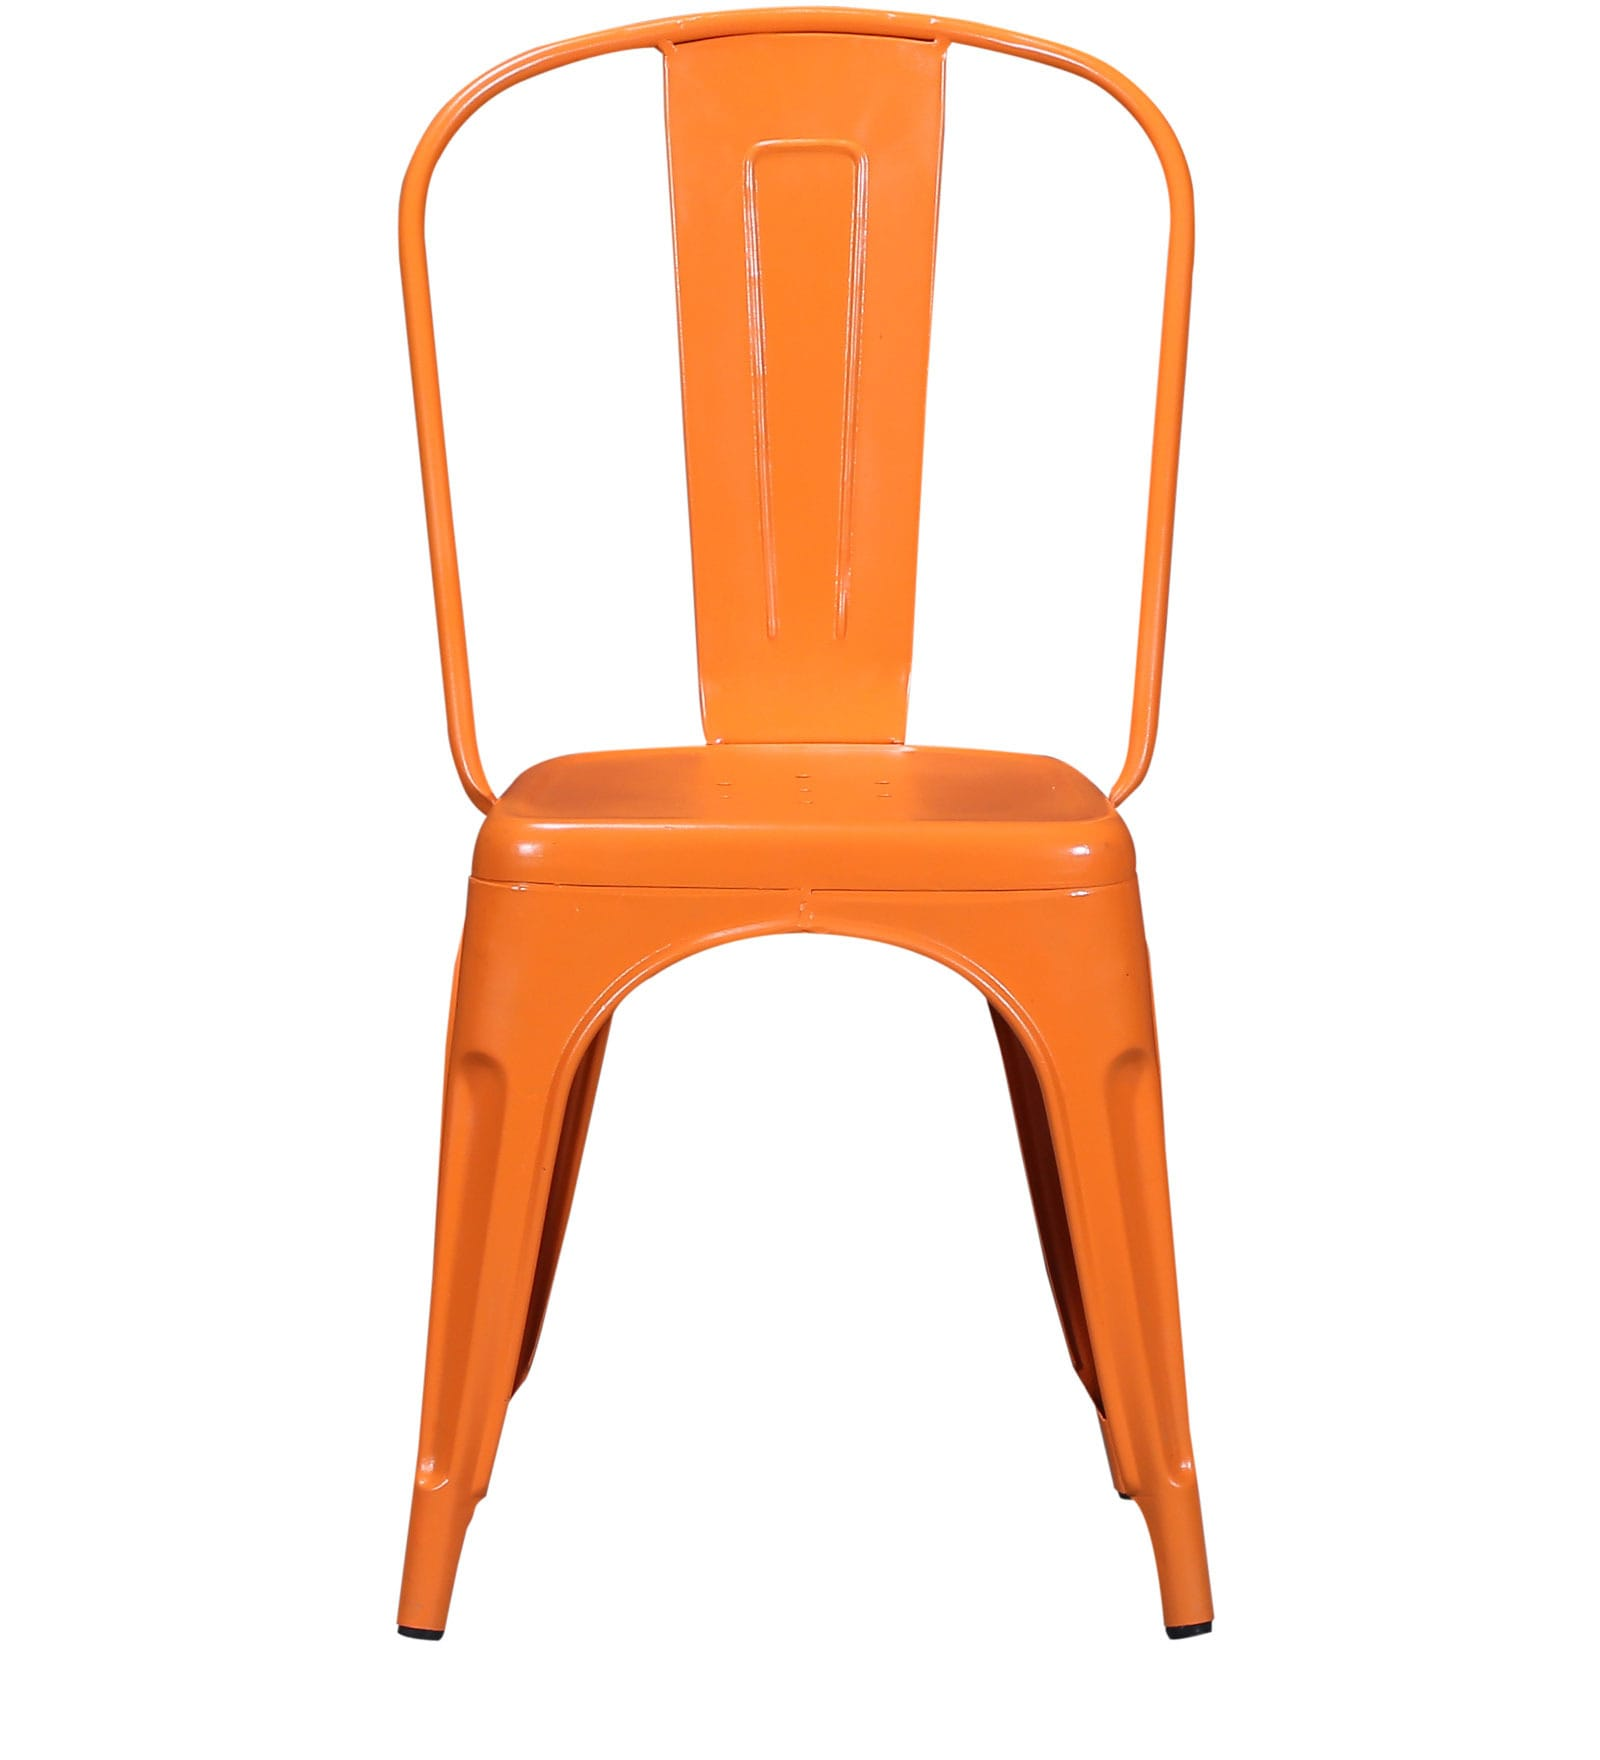Ekati Metal Chair in Orange Color with Eyelet by Bohemiana: (264, 9, 1304, 1689)
